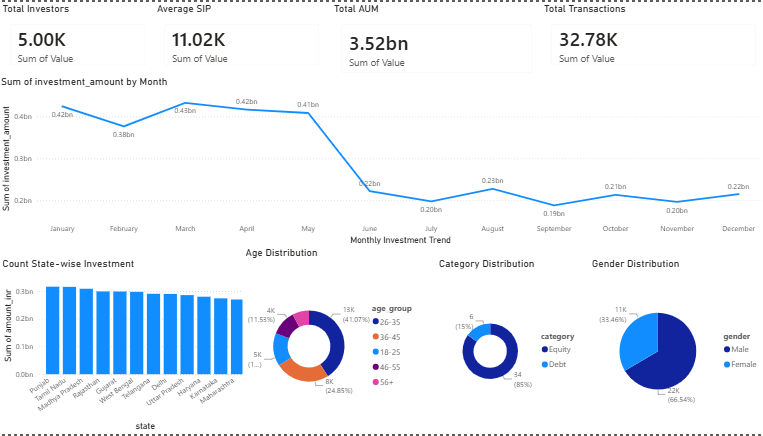

The page's visual inventory and layout, read from the dashboard file:
{"tool":"powerbi","page":{"name":"Page 1","canvas":[1280,720],"ordinal":0},"visuals":[{"type":"cardVisual","title":"Total Investors","fields":{"Data":["Sum(dashboard_kpis.Value)"]},"box":[2.5,0,260,122.5],"z":0},{"type":"cardVisual","title":"Average SIP","fields":{"Data":["Sum(dashboard_kpis.Value)"]},"box":[260,0,292.5,122.5],"z":1000},{"type":"cardVisual","title":"Total AUM","fields":{"Data":["Sum(dashboard_kpis.Value)"]},"box":[554,0,352,136],"z":2000},{"type":"cardVisual","title":"Total Transactions","fields":{"Data":["Sum(dashboard_kpis.Value)"]},"box":[905,0,375,122.5],"z":3000},{"type":"lineChart","fields":{"Y":["Sum(monthly_trend.investment_amount)"],"Category":["monthly_trend.month.Variation.Date Hierarchy.Month"]},"box":[0,122,1280,286],"z":4000},{"type":"clusteredColumnChart","title":"Count State-wise Investment","fields":{"Category":["state_investment.state"],"Y":["Sum(state_investment.amount_inr)"]},"box":[2,426,424,294],"z":5000},{"type":"donutChart","title":"Age Distribution","fields":{"Category":["age_distribution.age_group"],"Y":["Sum(age_distribution.count)"]},"box":[408,408,306,312],"z":5001},{"type":"pieChart","title":"Gender Distribution","fields":{"Category":["gender_distribution.gender"],"Y":["Sum(gender_distribution.count)"]},"box":[986,426,294,294],"z":5002},{"type":"donutChart","title":"Category Distribution","fields":{"Category":["category_distribution.category"],"Y":["Sum(category_distribution.count)"]},"box":[730,426,254,294],"z":5003}]}

Visuals, with their boxes in screenshot pixels (x1, y1, x2, y2), scaled from the page's 1280x720 canvas onto the 763x436 screenshot:
"Total Investors" cardVisual: (x1=1, y1=0, x2=156, y2=74)
"Average SIP" cardVisual: (x1=155, y1=0, x2=329, y2=74)
"Total AUM" cardVisual: (x1=330, y1=0, x2=540, y2=82)
"Total Transactions" cardVisual: (x1=539, y1=0, x2=762, y2=74)
lineChart - Sum(monthly_trend.investment_amount) x monthly_trend.month.Variation.Date Hierarchy.Month: (x1=0, y1=74, x2=762, y2=247)
"Count State-wise Investment" clusteredColumnChart: (x1=1, y1=258, x2=254, y2=435)
"Age Distribution" donutChart: (x1=243, y1=247, x2=426, y2=435)
"Gender Distribution" pieChart: (x1=588, y1=258, x2=762, y2=435)
"Category Distribution" donutChart: (x1=435, y1=258, x2=587, y2=435)
